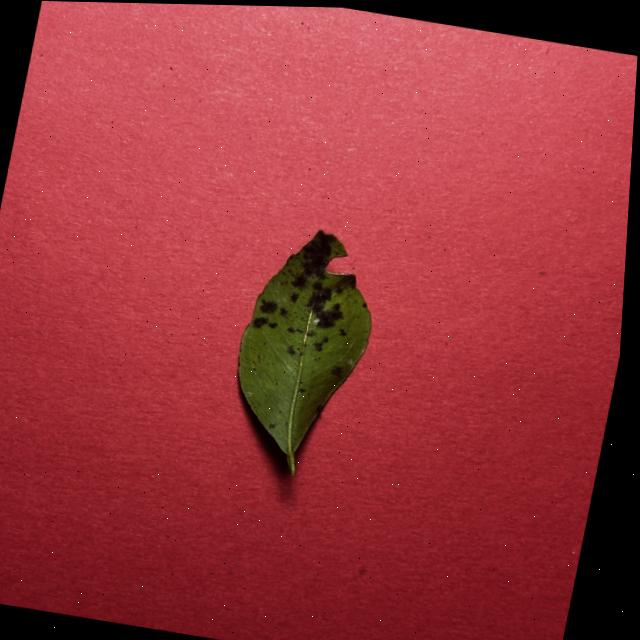sooty_mold: (239, 231, 371, 475)
